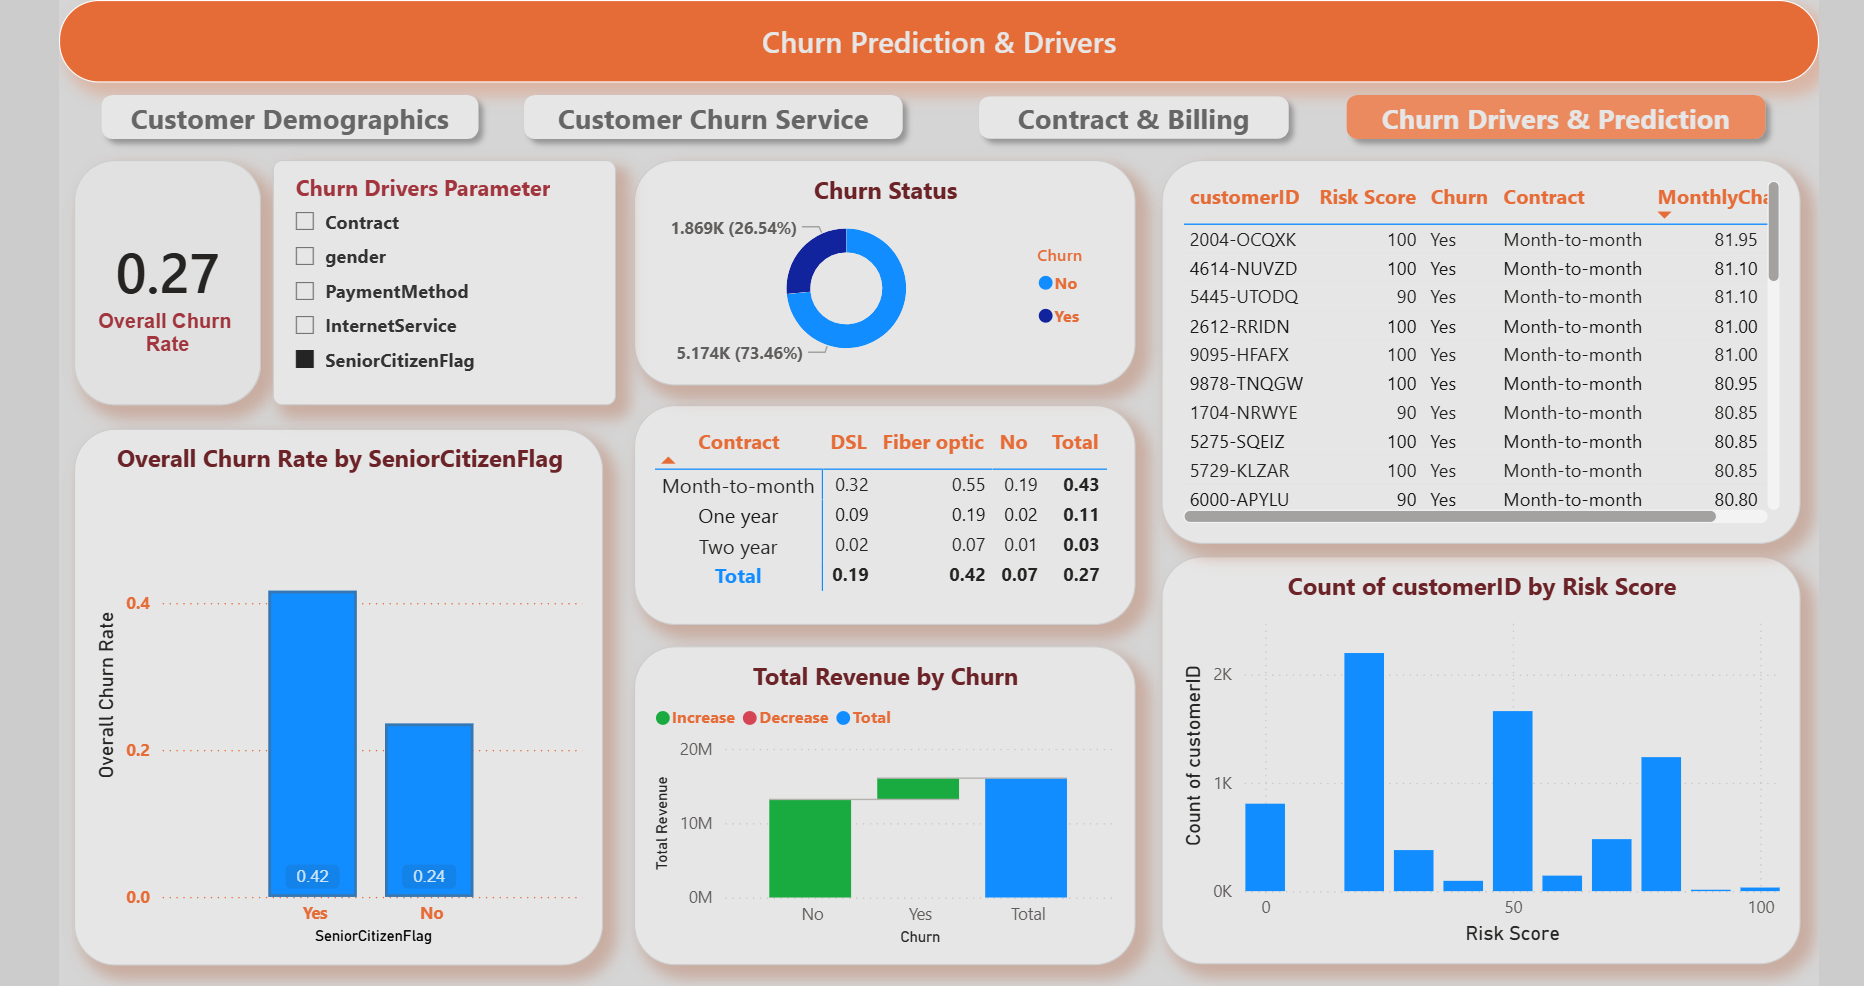

What the dashboard file says about the page in this screenshot:
{"tool":"powerbi","page":{"name":"Page 4","canvas":[1280,720],"ordinal":3},"visuals":[{"type":"card","fields":{"Values":["DATASET.Overall Churn Rate"]},"box":[11,116.2,135.7,178.5],"z":0},{"type":"clusteredColumnChart","fields":{"Category":["DATASET.SeniorCitizenFlag"],"Y":["DATASET.Overall Churn Rate"]},"box":[11,311.8,385.2,390.1],"z":1000},{"type":"pivotTable","fields":{"Rows":["DATASET.Contract"],"Columns":["DATASET.InternetService"],"Values":["DATASET.Overall Churn Rate"]},"box":[418.2,294.7,364.4,160.2],"z":2000},{"type":"waterfallChart","fields":{"Category":["DATASET.Churn"],"Y":["DATASET.Total Revenue"]},"box":[418.2,469.6,364.4,232.3],"z":3000},{"type":"clusteredColumnChart","fields":{"Category":["DATASET.Risk Score"],"Y":["CountNonNull(DATASET.customerID)"]},"box":[802.2,404.8,464.7,297.1],"z":4000},{"type":"tableEx","fields":{"Values":["DATASET.customerID","DATASET.Risk Score","DATASET.Churn","DATASET.Contract","DATASET.MonthlyCharges"]},"box":[802.2,116.2,464.7,278.8],"z":5000},{"type":"textbox","box":[0,0,1280.3,59.9],"z":6000},{"type":"donutChart","title":"Churn Status ","fields":{"Y":["CountNonNull(DATASET.customerID)"],"Category":["DATASET.Churn"]},"box":[418.2,116.2,364.4,163.9],"z":7000},{"type":"slicer","fields":{"Values":["Churn Drivers Parameter.Churn Drivers Parameter"]},"box":[155.3,116.2,249.5,178.5],"z":8000},{"type":"shape","box":[22,59.9,292.3,50.1],"z":9000},{"type":"shape","box":[328.9,59.9,293.5,50.1],"z":10000},{"type":"shape","box":[660.3,61.1,243.3,48.9],"z":11000},{"type":"shape","box":[926.9,59.9,322.8,50.1],"z":12000}]}

Visuals, with their boxes on the page's 1280x720 design canvas (x1, y1, x2, y2). These are canvas units, not pixel positions in the 1864x986 screenshot, which may show the page scaled, cropped or inside an application window:
card - DATASET.Overall Churn Rate: 11/116/147/295
clusteredColumnChart - DATASET.SeniorCitizenFlag x DATASET.Overall Churn Rate: 11/312/396/702
pivotTable - DATASET.Contract x DATASET.InternetService: 418/295/783/455
waterfallChart - DATASET.Churn x DATASET.Total Revenue: 418/470/783/702
clusteredColumnChart - DATASET.Risk Score x CountNonNull(DATASET.customerID): 802/405/1267/702
tableEx - DATASET.customerID x DATASET.Risk Score: 802/116/1267/395
textbox: 0/0/1280/60
"Churn Status " donutChart: 418/116/783/280
slicer - Churn Drivers Parameter.Churn Drivers Parameter: 155/116/405/295
shape: 22/60/314/110
shape: 329/60/622/110
shape: 660/61/904/110
shape: 927/60/1250/110
